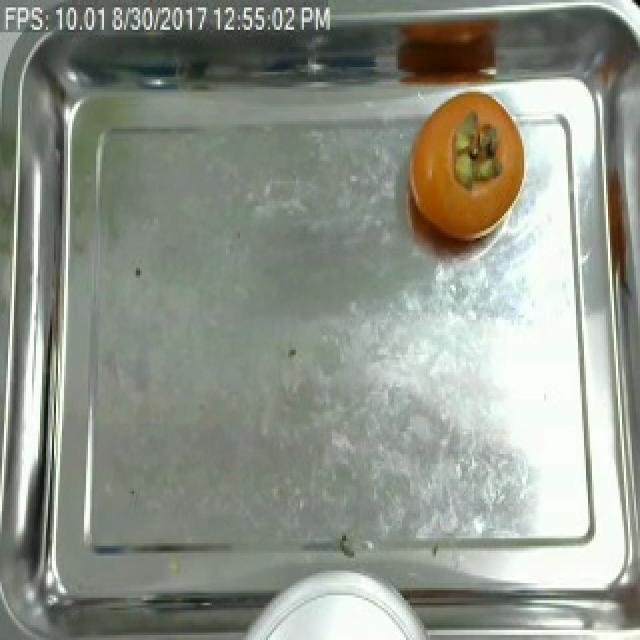Fruit: (400, 82, 536, 240)
